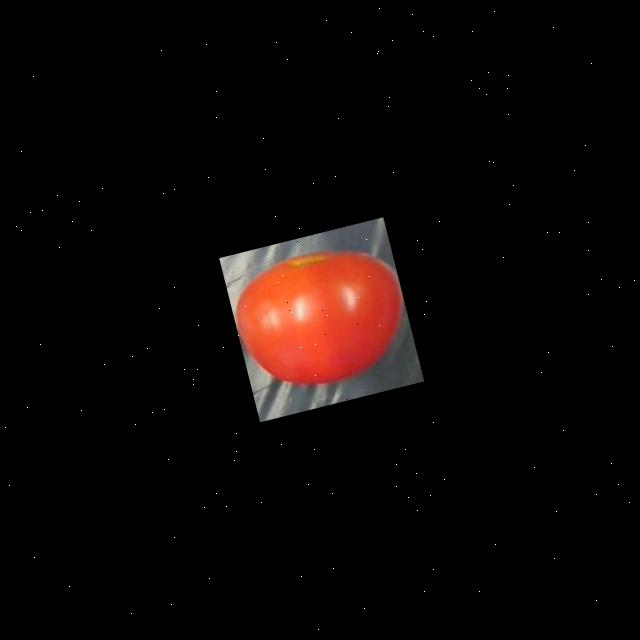tomato: (221, 231, 415, 404)
